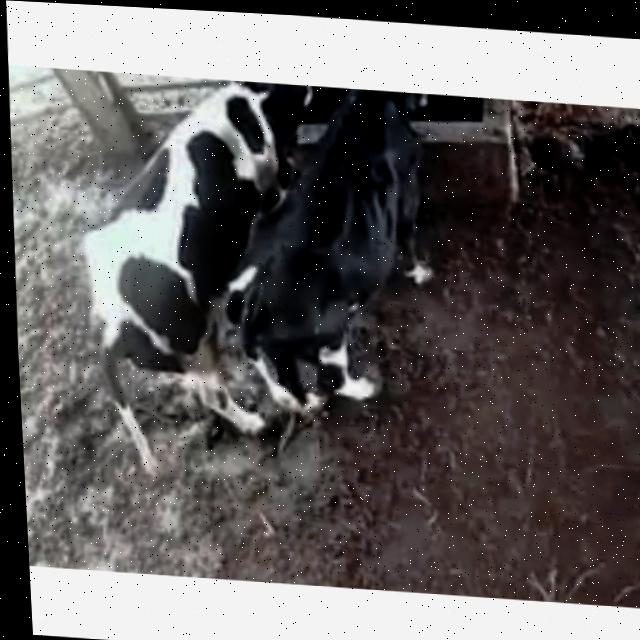drink: (168, 75, 321, 189), (318, 85, 442, 187)
